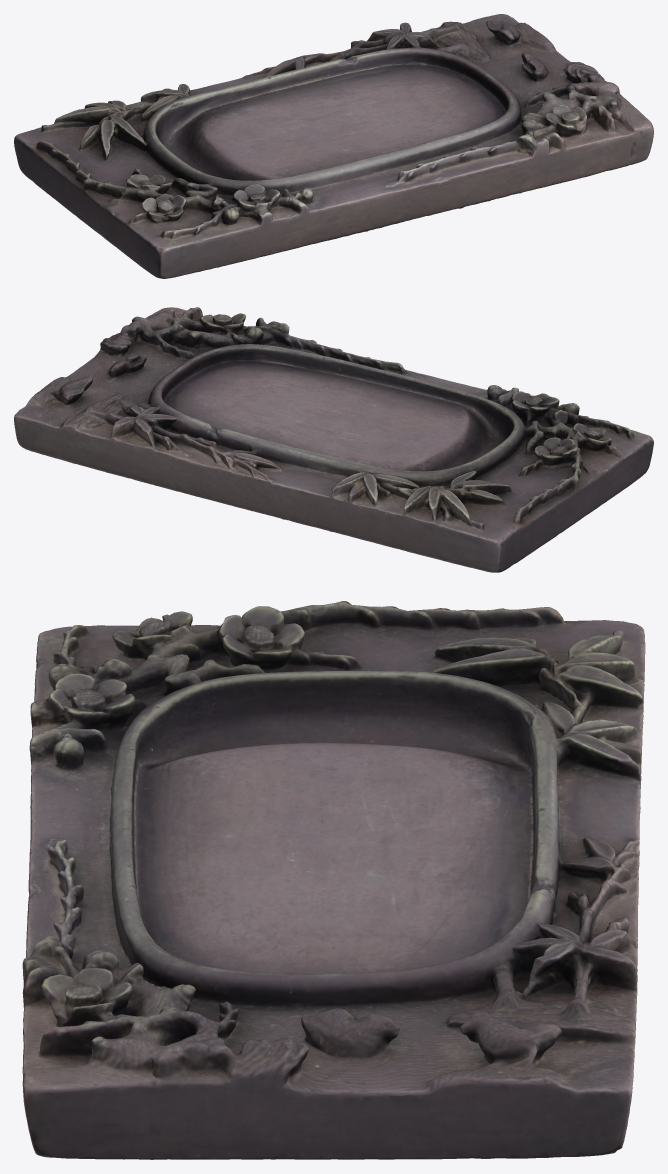
File: KCDF_2022_prop_Inkstone_01.fbx
3 views of the same model, one above another, from view 1: azimuth 30°, elevation 25°; view 2: azimuth 150°, elevation 25°; view 3: azimuth 270°, elevation 25° (orthographic). The views are drawn at different scales.
Visible parts, largest first — view 1: Model; view 2: Model; view 3: Model.
Part boxes in pixels (x1,y1,x2,y2): Model: (14, 14, 653, 278); Model: (14, 307, 653, 572); Model: (22, 601, 645, 1159).
Bounding box in the file's own units: 0.1727 × 0.0941 × 0.0215.
Materials: 1 (1 with a texture image).
